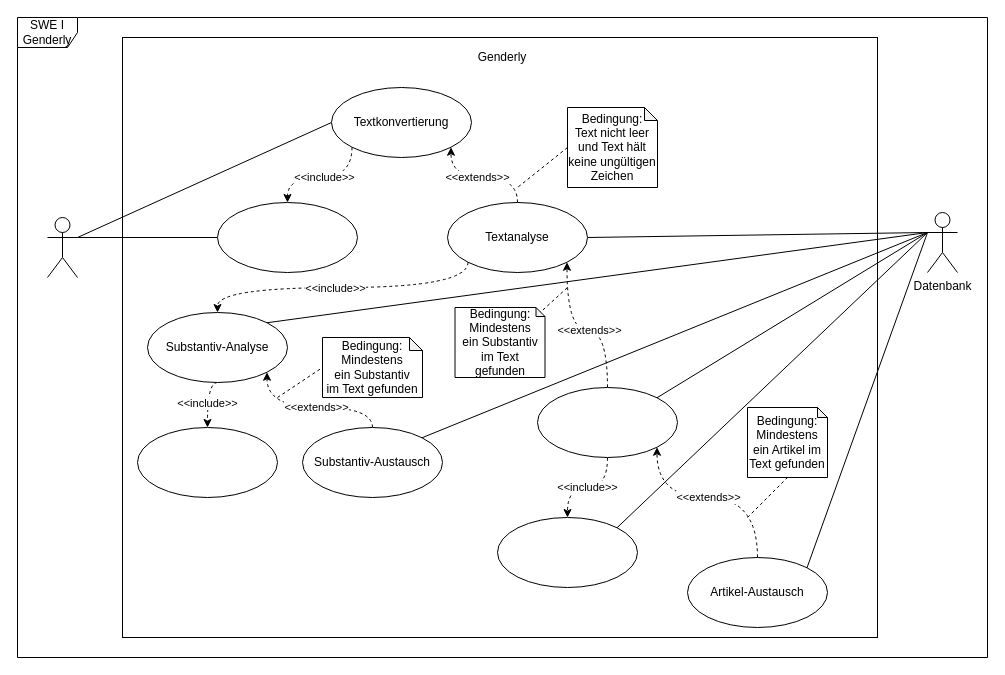
Some shapes in this 1005 by 675 pixel diagram are drawn without their labels. The centre of each missing label's shape, as x and y in pixels:
Artikel-Analyse: point (607, 422)
Artikel-Ermittlung: point (567, 552)
Nutzer*in: point (62, 247)
Substantiv-Ermittlung: point (207, 462)
Texteingabe: point (287, 237)
